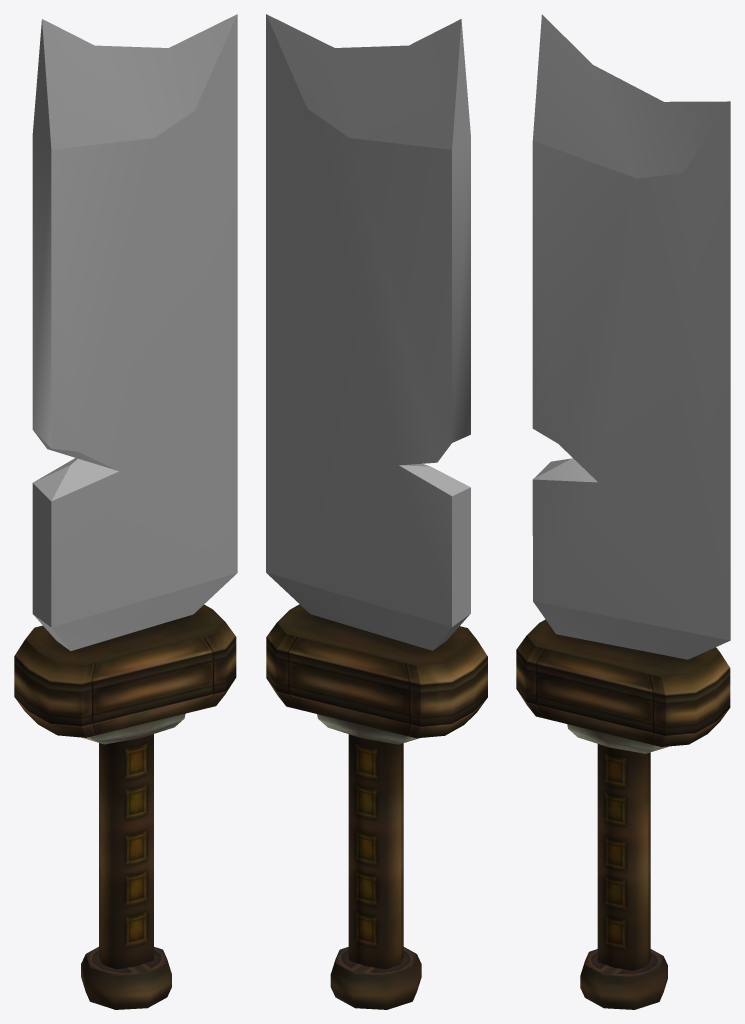
File: GreateSword_01_Low.fbx
3 renders of one model, left to right at view 1: azimuth 30°, elevation 25°; view 2: azimuth 150°, elevation 25°; view 3: azimuth 330°, elevation 25°, orthographic. The views are drawn at different scales.
Parts seen in each view (by area): view 1: Mod_GreateSword_01_Low; view 2: Mod_GreateSword_01_Low; view 3: Mod_GreateSword_01_Low.
Boxes of the visible parts, x1,y1,x2,y2 form: Mod_GreateSword_01_Low: (14, 14, 237, 1009); Mod_GreateSword_01_Low: (266, 14, 487, 1009); Mod_GreateSword_01_Low: (516, 14, 730, 1009).
Bounding box in the file's own units: 17.56 × 80.05 × 8.32.
